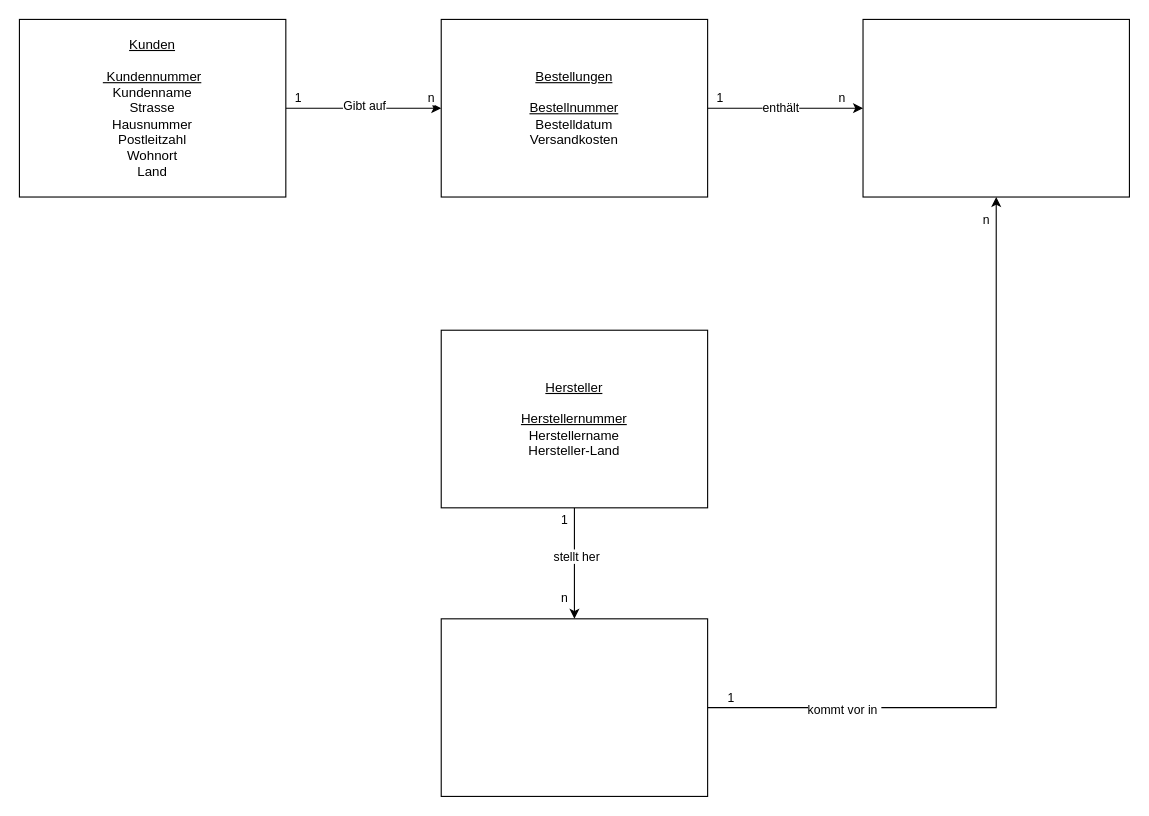
Some shapes in this 1149 by 816 pixel diagram are drawn without their labels. Each missing label, with the centre of its shape:
Bestellpositionen Menge Einzelpreis: point (995, 107)
Produkte Produktnummer Produktbezeichnung: point (574, 707)
